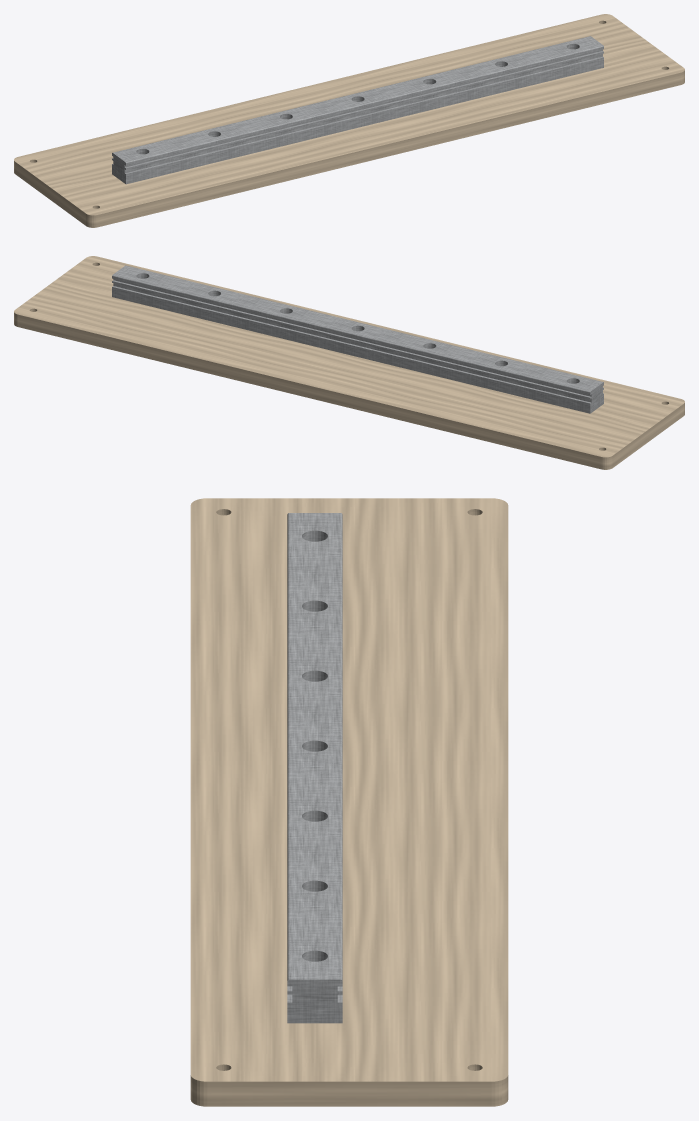
The model's file is step-2.glb.
The picture shows the model from 3 angles, top to bottom: view 1: azimuth 30°, elevation 25°; view 2: azimuth 150°, elevation 25°; view 3: azimuth 270°, elevation 25°; orthographic projection. The views are drawn at different scales.
Parts seen in each view (by area): view 1: base-plate__mesh, rail__mesh; view 2: base-plate__mesh, rail__mesh; view 3: base-plate__mesh, rail__mesh.
Part boxes in pixels (x1,y1,x2,y2): base-plate__mesh: (14, 14, 684, 227); rail__mesh: (112, 36, 603, 184); base-plate__mesh: (14, 256, 684, 469); rail__mesh: (112, 265, 603, 413); base-plate__mesh: (190, 498, 508, 1106); rail__mesh: (287, 513, 342, 1023).
Bounding box in the file's own units: 0.5 × 0.0275 × 0.115.
Materials: 2 (2 with a texture image).
